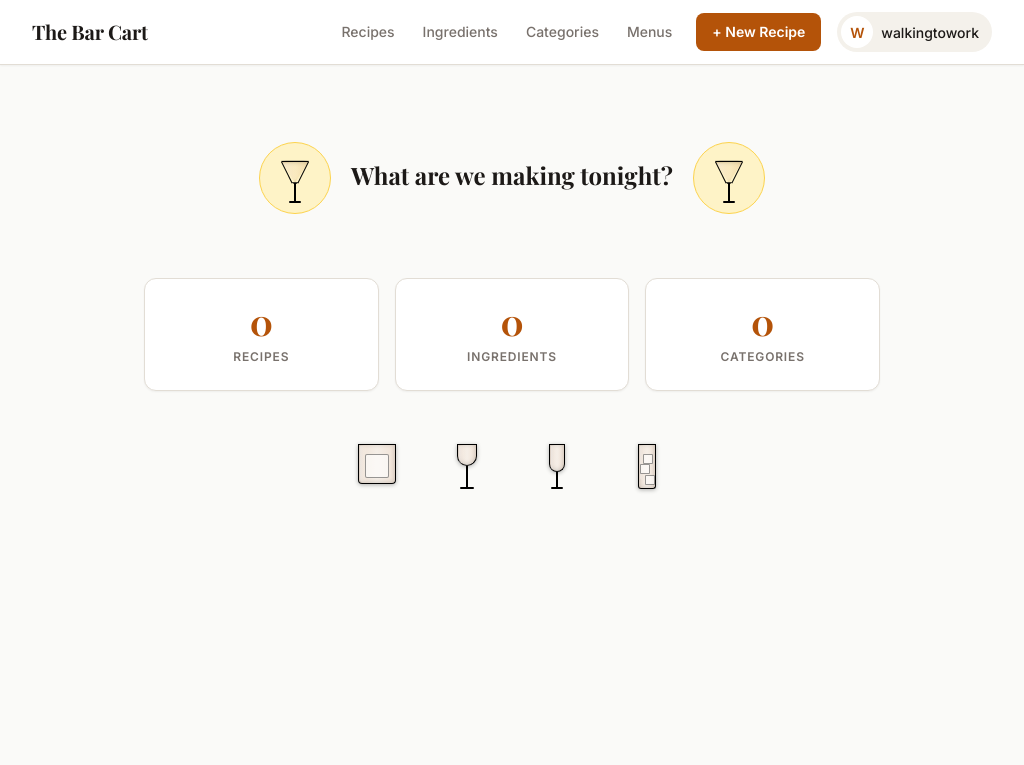
Test: personal info page › is reached from the account menu
The image size is (1024, 765).
Click the button with aria-label "Account: walkingtowork".
click(915, 32)  # box x1=837 y1=12 x2=992 y2=52
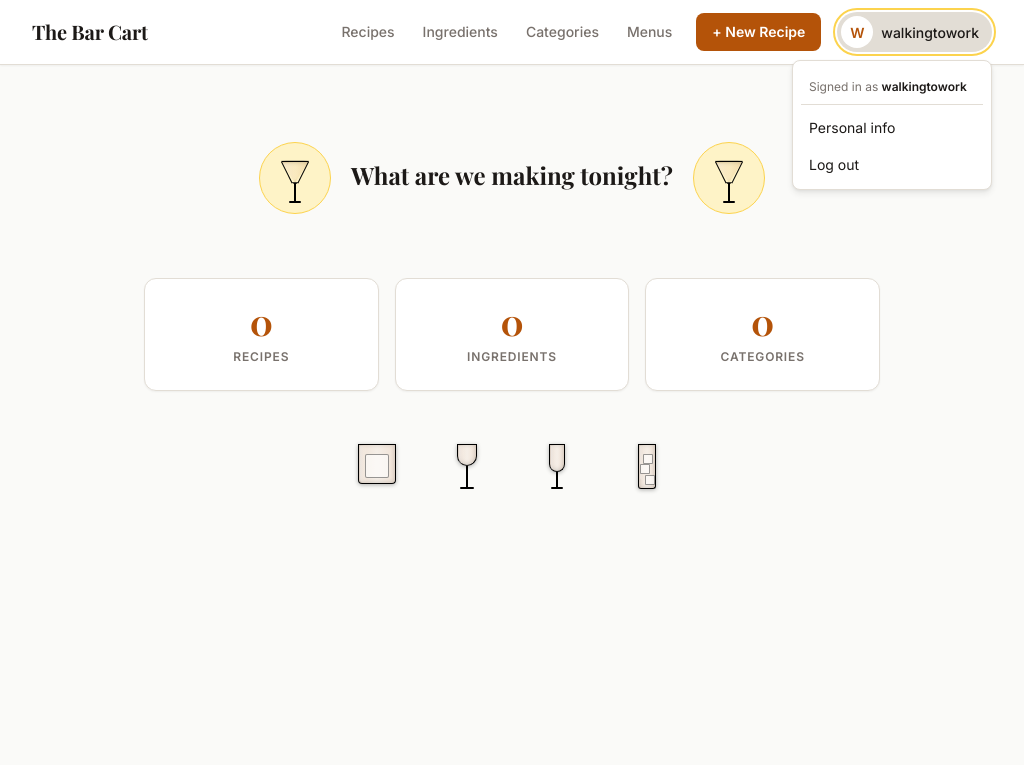
Click the menu item "Personal info".
click(852, 128)  # box x1=809 y1=119 x2=895 y2=136
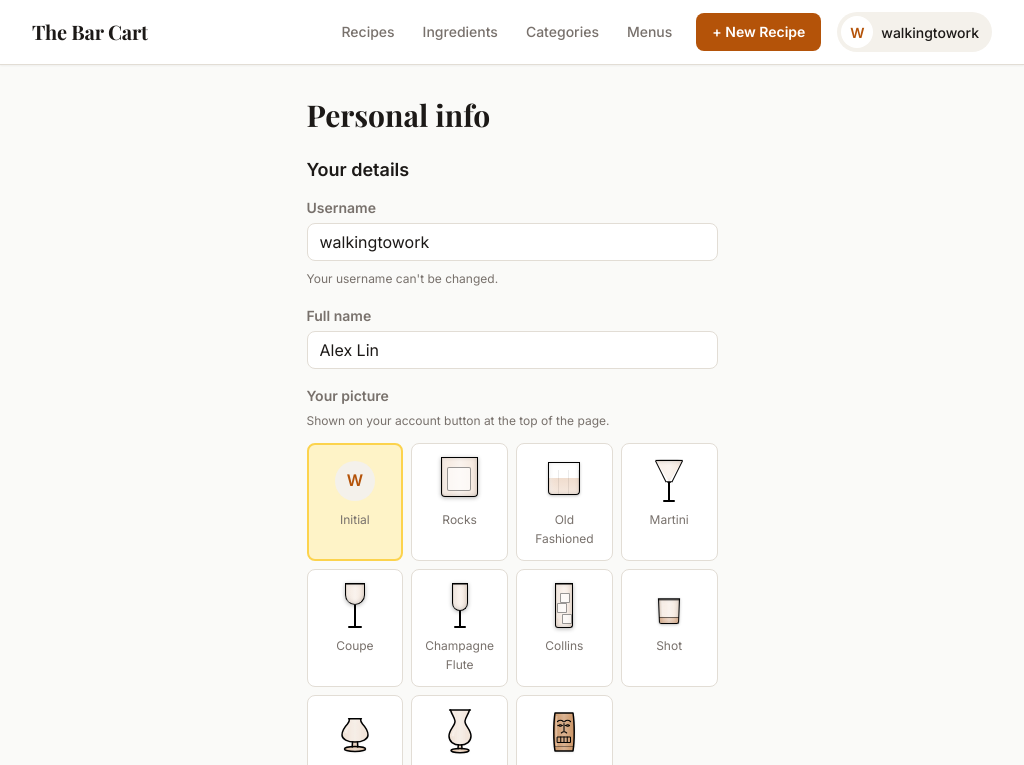
Expected: the heading "Personal info" is shown, x1=306 y1=95 x2=490 y2=135
Expected: the menu is gone
